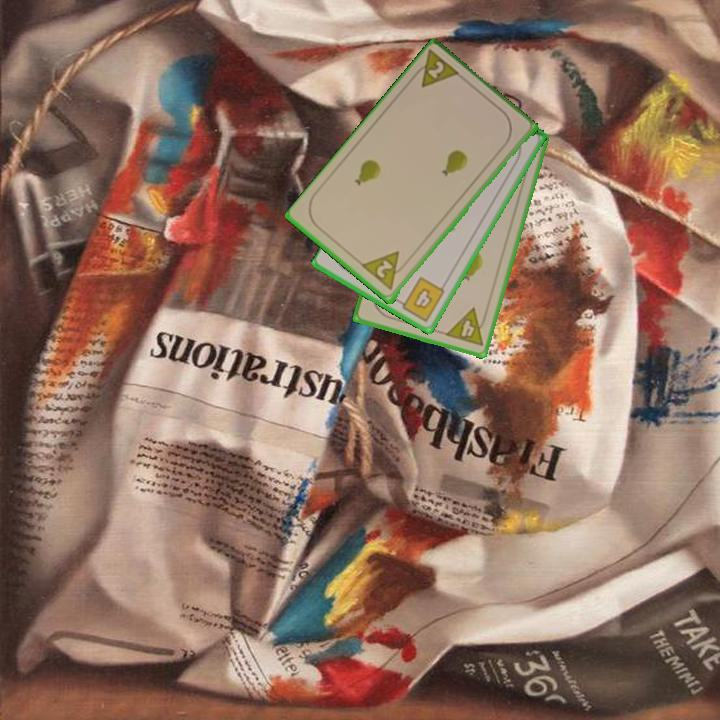2p: (407, 47, 464, 91), (359, 248, 411, 293)
4b: (394, 273, 448, 325)
4p: (442, 305, 491, 349)
